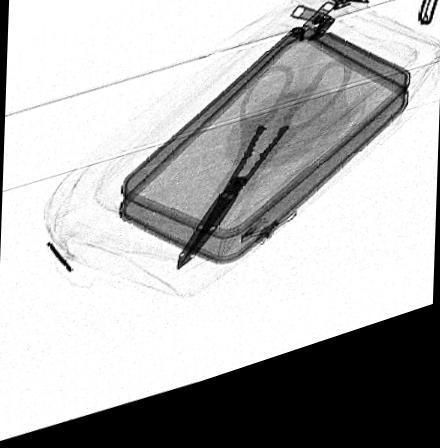Scissors: (175, 79, 354, 282)
